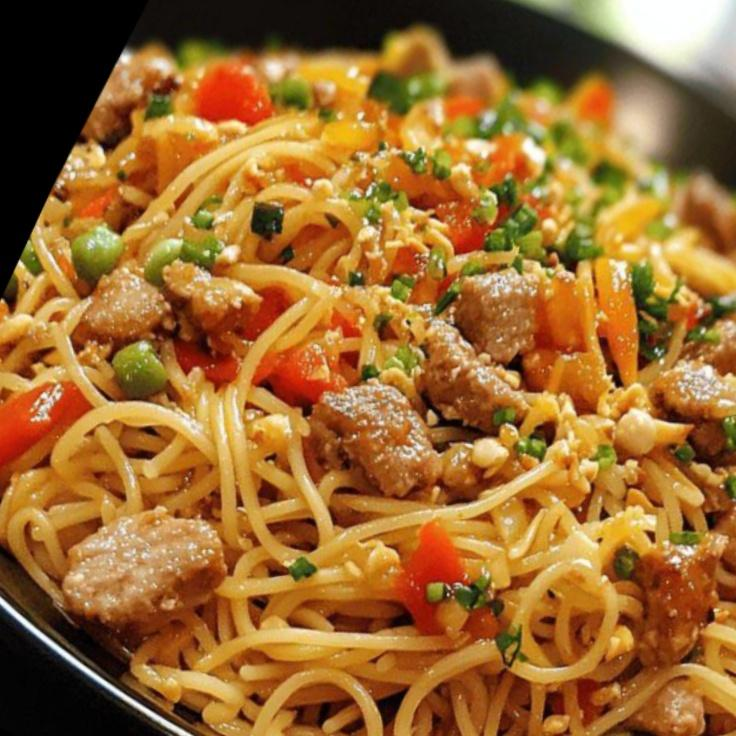pancit bihon: (0, 43, 735, 735)
